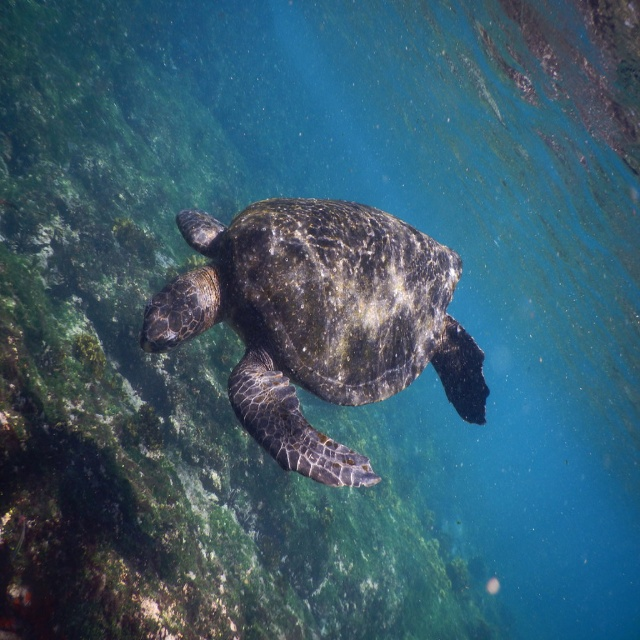Sea turtle: (139, 186, 500, 510)
